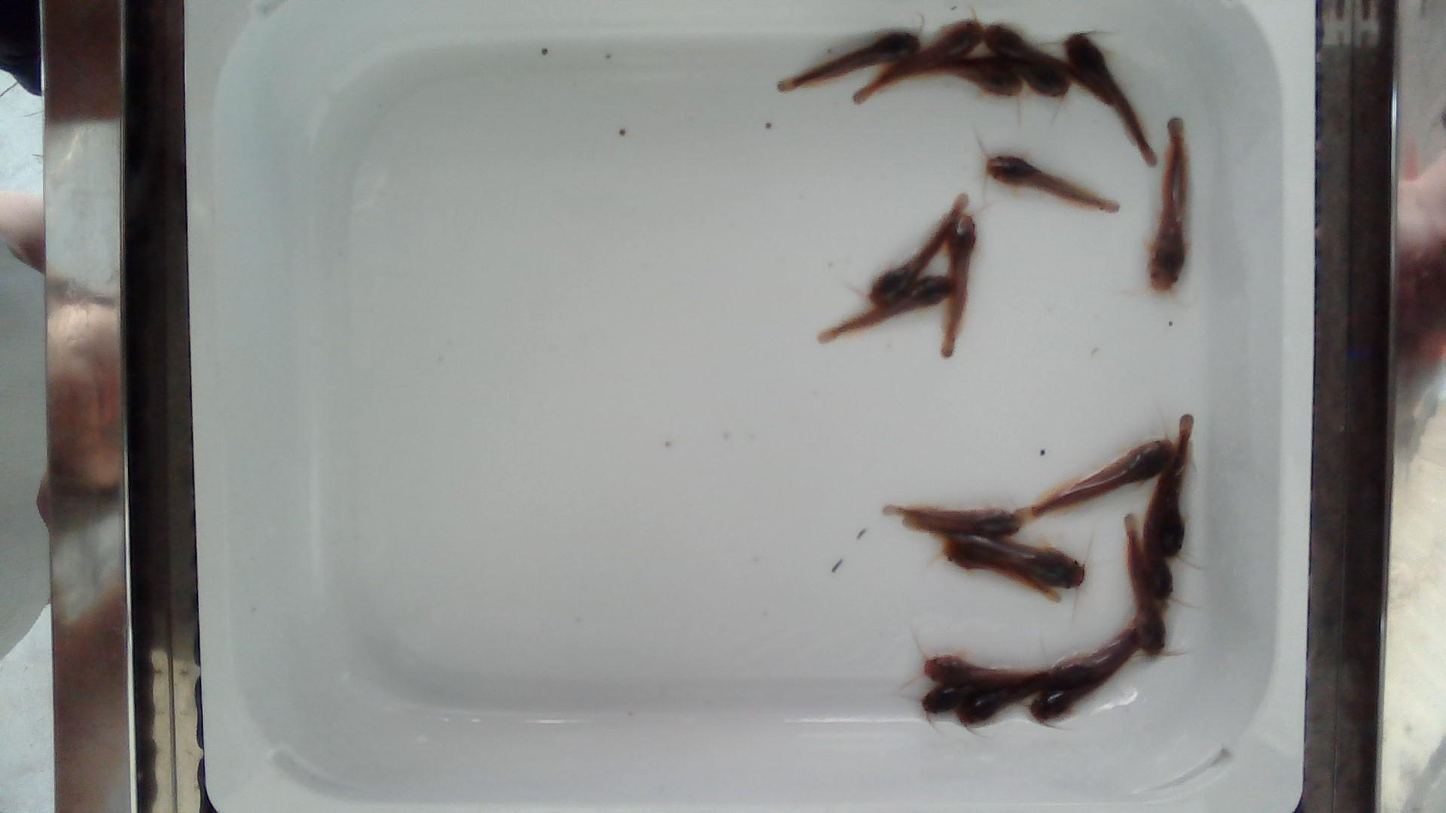lele: (1015, 439, 1183, 518), (902, 517, 1086, 589), (1063, 33, 1157, 165), (850, 18, 987, 104), (871, 195, 968, 306), (777, 32, 919, 92), (819, 277, 952, 341), (986, 155, 1118, 212), (942, 542, 1064, 603), (1148, 117, 1188, 291), (1045, 625, 1137, 690), (1126, 515, 1168, 657), (1030, 663, 1122, 724), (981, 24, 1072, 82), (912, 56, 1026, 102), (1141, 463, 1179, 600), (1157, 415, 1194, 555), (957, 672, 1048, 726), (941, 215, 975, 356), (883, 507, 1022, 537), (988, 49, 1066, 99), (924, 655, 1045, 685), (920, 682, 1020, 713)
